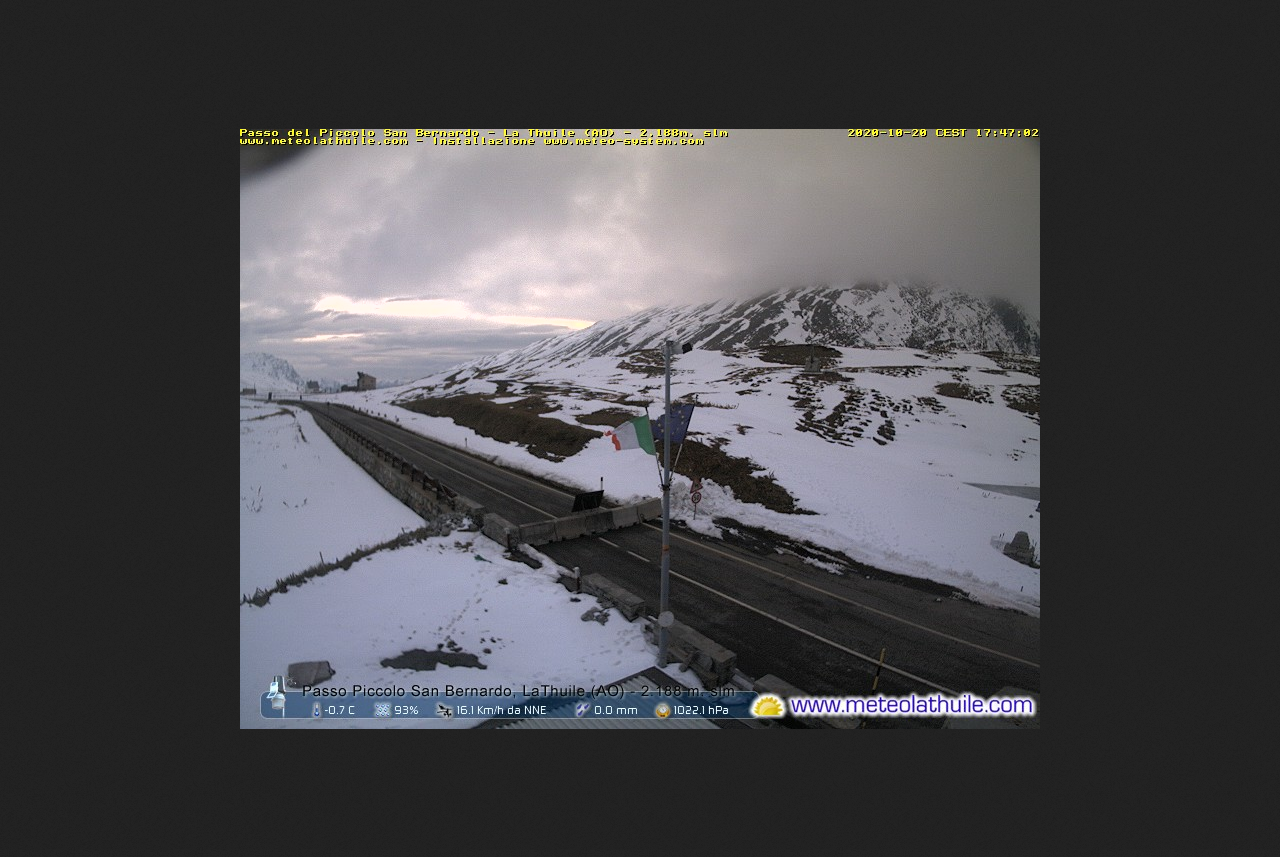yes: (610, 411, 656, 456), (652, 399, 697, 444)
